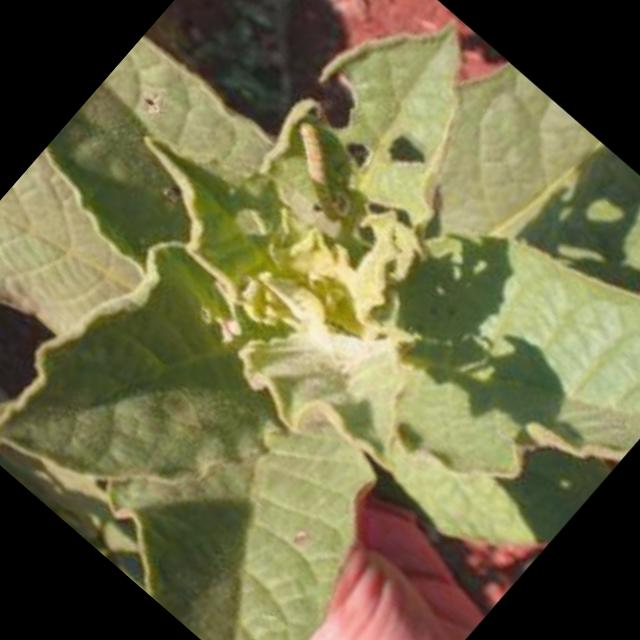Cotton bollworm: (248, 89, 398, 238)
